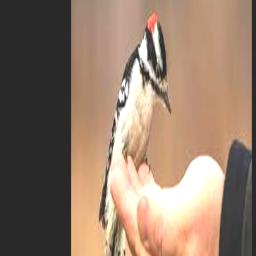Woodpecker: (99, 11, 171, 256)
